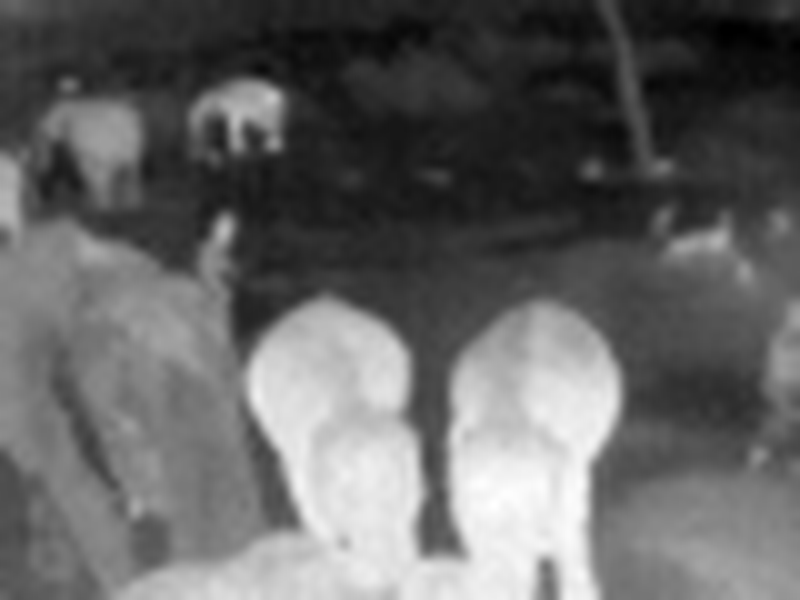elephant: (1, 76, 612, 600)
